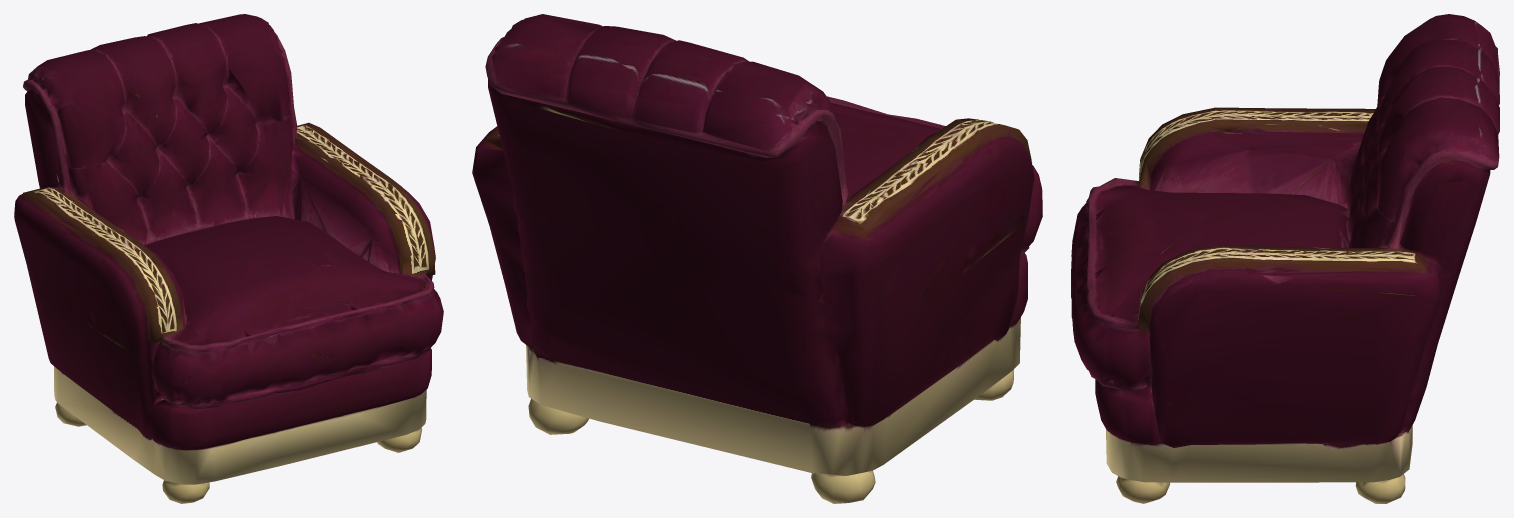
The model's file is armchair.glb.
3 views of the same model, side by side, from view 1: azimuth 30°, elevation 25°; view 2: azimuth 150°, elevation 25°; view 3: azimuth 270°, elevation 25° (orthographic). The views are drawn at different scales.
Parts seen in each view (by area): view 1: Mesh_0; view 2: Mesh_0; view 3: Mesh_0.
Part boxes in pixels (x1,y1,x2,y2): Mesh_0: (14,14,443,503); Mesh_0: (472,14,1042,503); Mesh_0: (1071,14,1499,503).
Size of the model in its own units: 0.9036 by 0.95 by 0.9779.
Materials: 1 (1 with a texture image).
